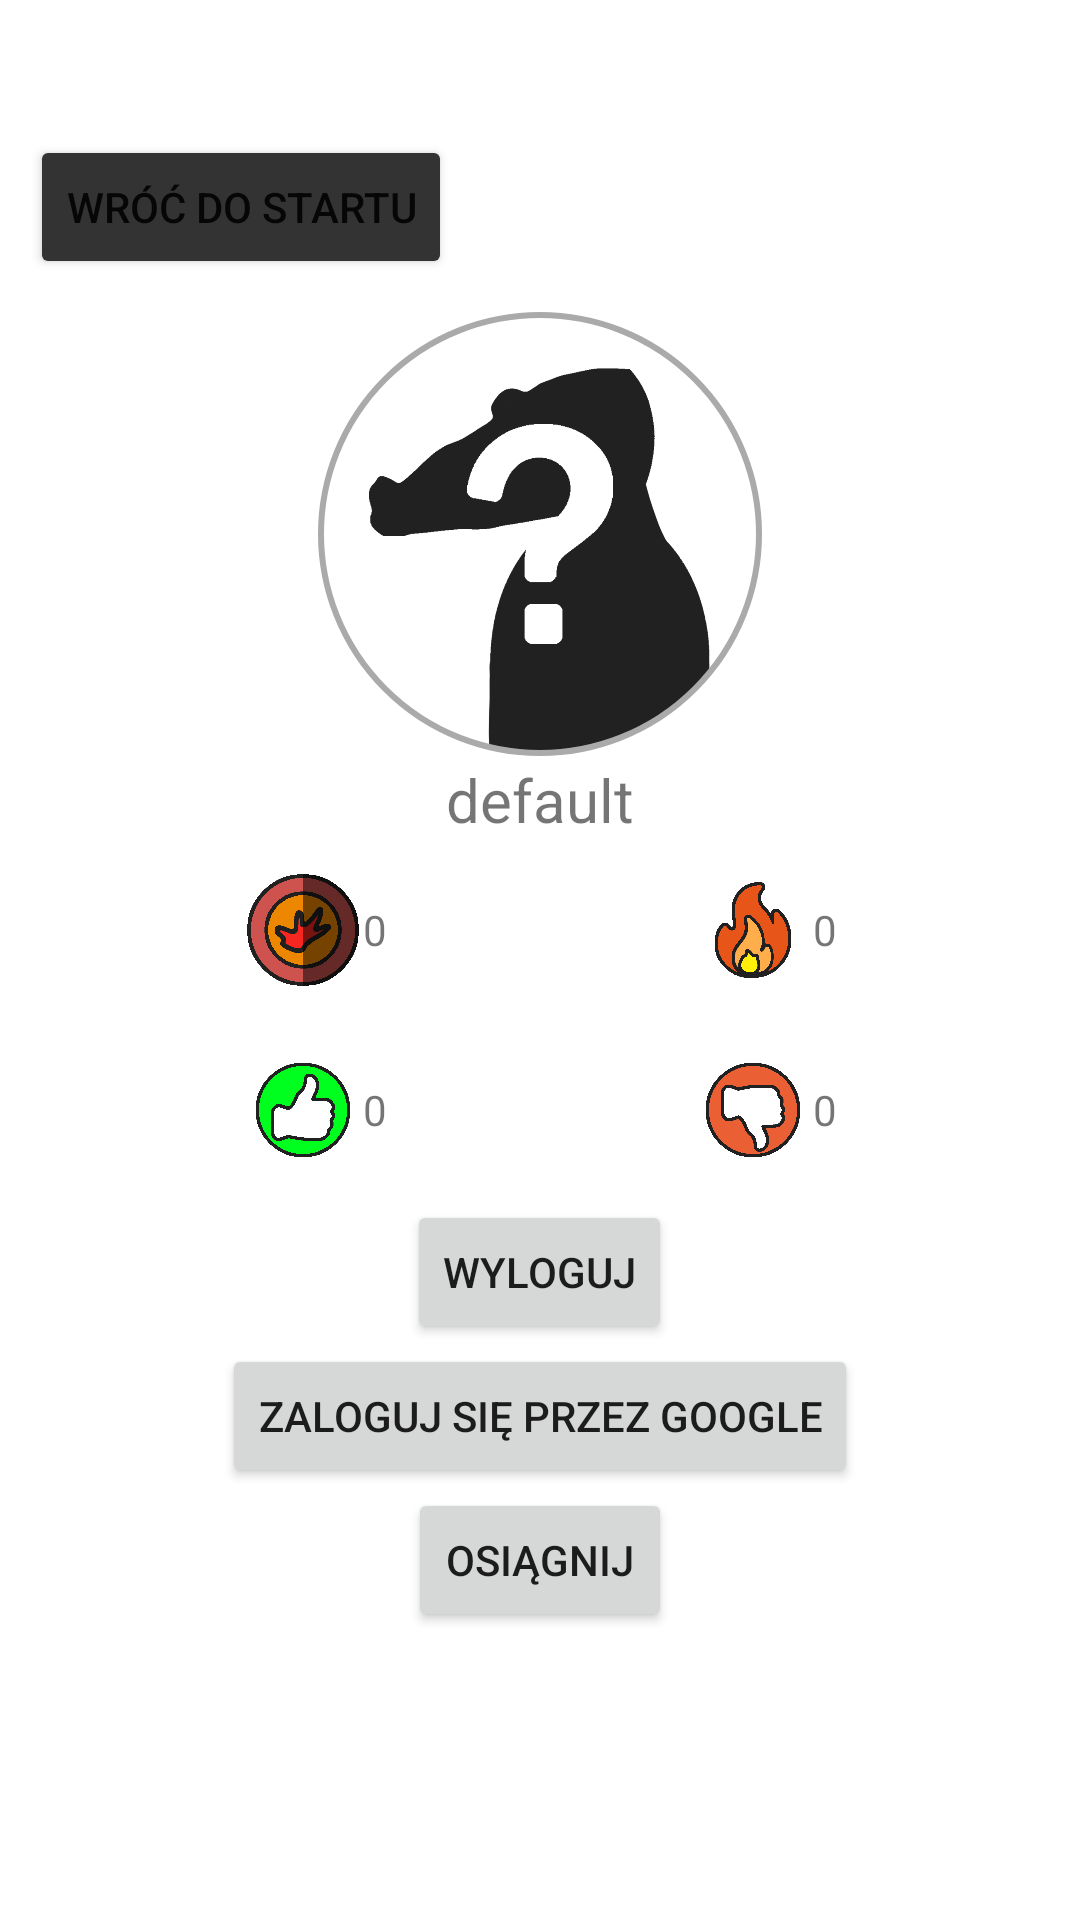

Where to tap for icons on this 1080*1920 app screen, as point (x, y):
crococoin: point (303, 930)
nzdanetesty: point (753, 1110)
streak: point (753, 930)
zdanetesty: point (303, 1110)
